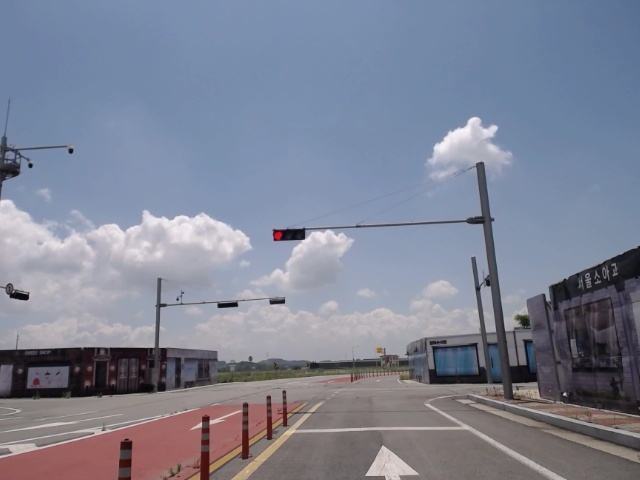red_3: (272, 227, 306, 241)
